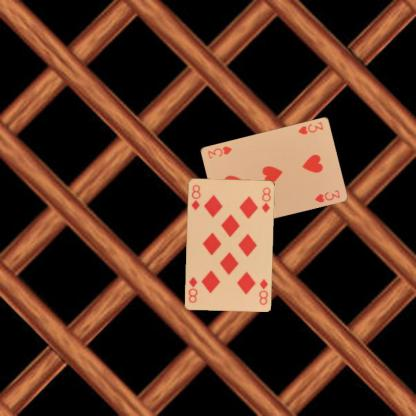3h: (295, 120, 324, 136)
8d: (188, 182, 202, 211), (257, 276, 268, 306)
